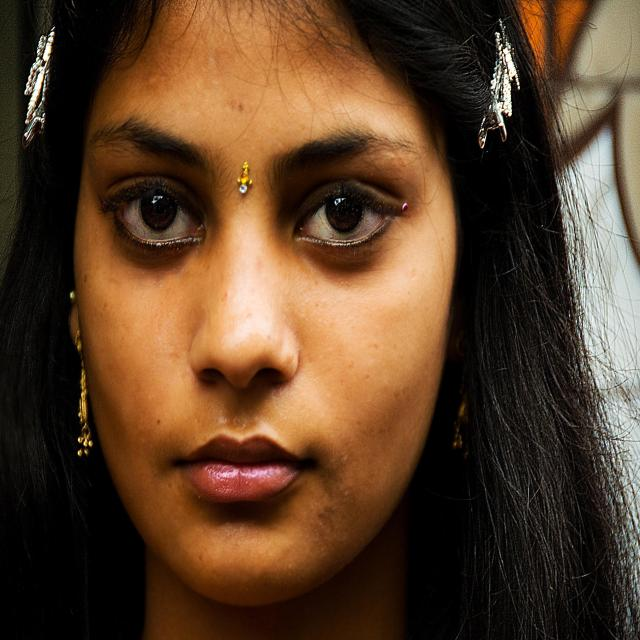Eyebags: (105, 224, 201, 281), (291, 228, 389, 282)
